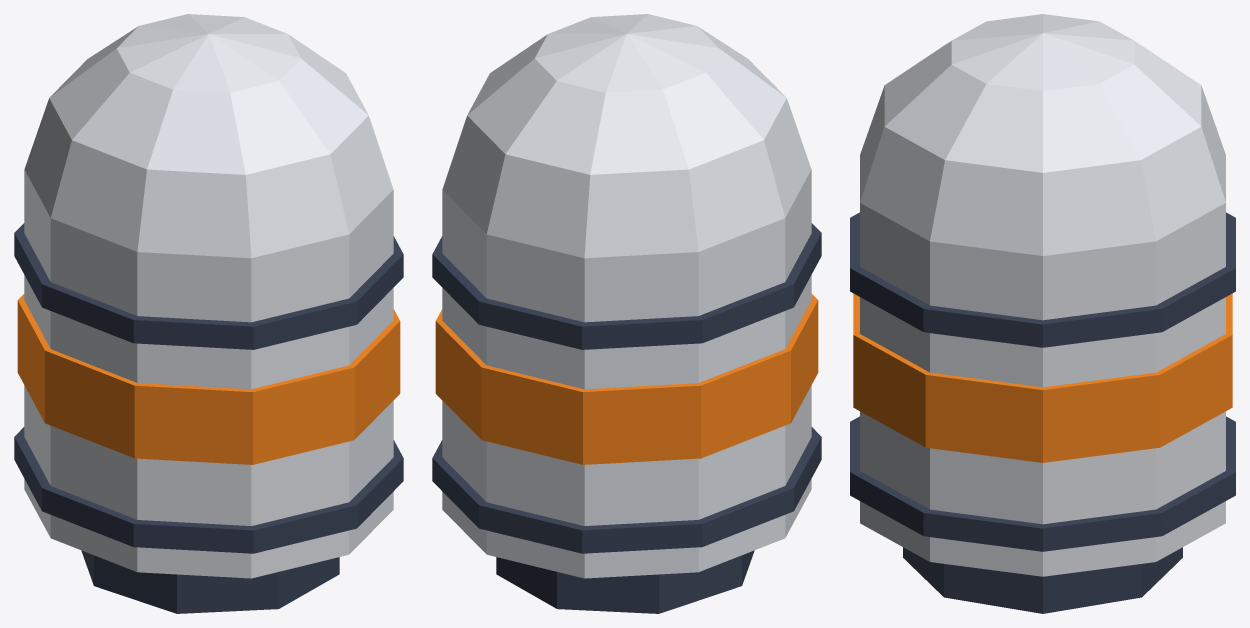
The model's file is env_r9_fuel_tank.glb.
3 views of the same model, side by side, from view 1: azimuth 30°, elevation 25°; view 2: azimuth 150°, elevation 25°; view 3: azimuth 270°, elevation 25° (orthographic).
Parts seen in each view (by area): view 1: env_r9_fuel_tank; view 2: env_r9_fuel_tank; view 3: env_r9_fuel_tank.
Part boxes in pixels (x1,y1,x2,y2): env_r9_fuel_tank: [14, 14, 403, 613]; env_r9_fuel_tank: [432, 14, 821, 613]; env_r9_fuel_tank: [850, 14, 1235, 613].
Bounding box in the file's own units: 1.2 × 1.8 × 1.2.
1 material, 1 textured.
